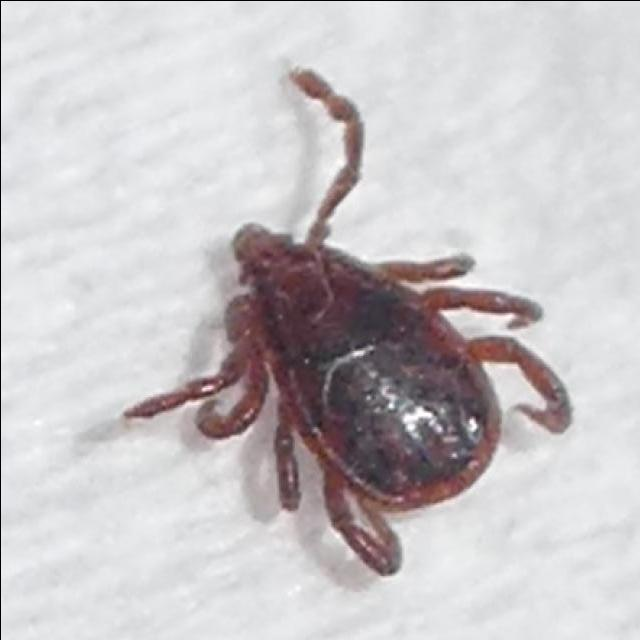Rhipicephalus Sanguineus-M: (119, 68, 573, 578)
